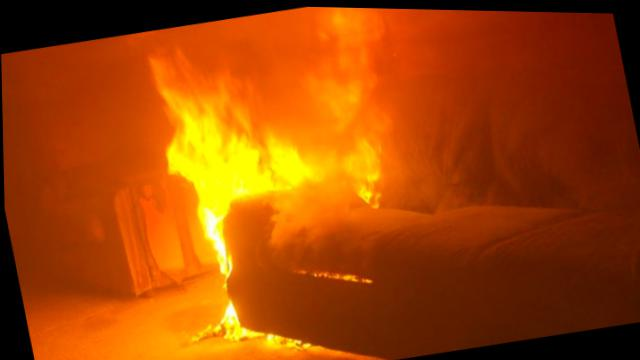fire: (136, 10, 414, 359)
